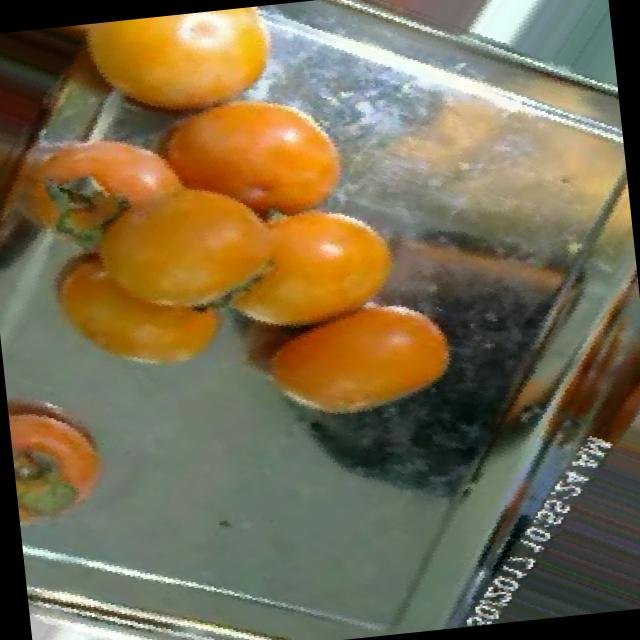Fruit: (242, 270, 483, 445), (338, 0, 530, 64), (0, 20, 117, 93)
